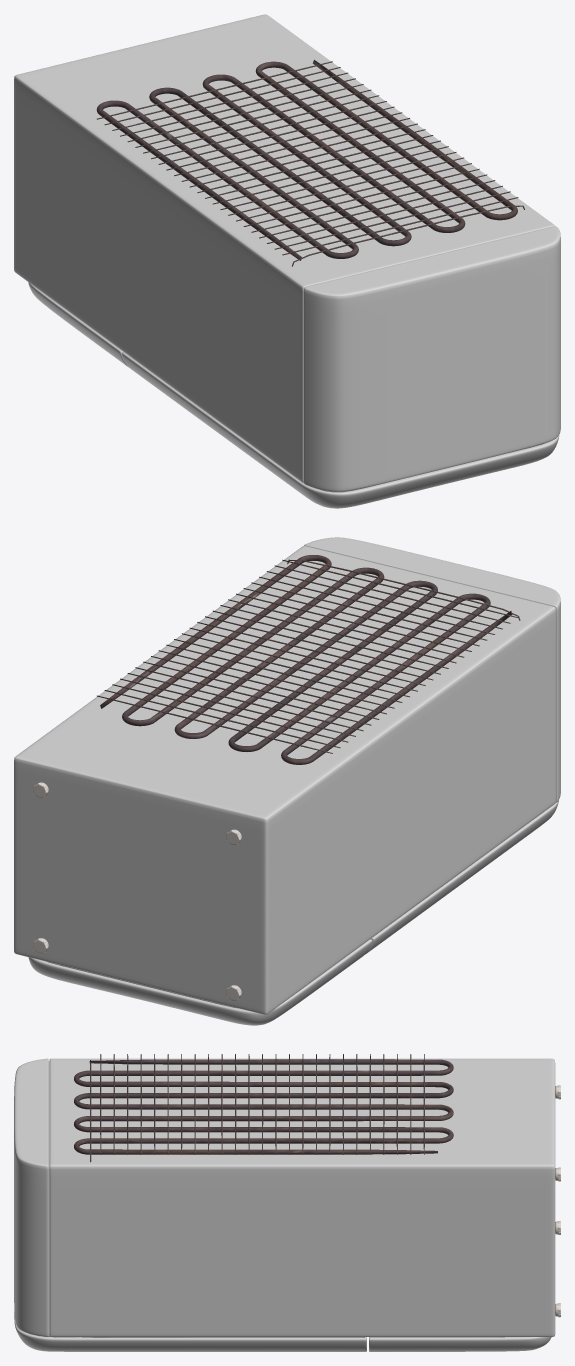
The model's file is 11647_Refrigerator_V1_L3.obj.
3 views of the same model, one above another, from view 1: azimuth 30°, elevation 25°; view 2: azimuth 150°, elevation 25°; view 3: azimuth 270°, elevation 25° (orthographic). The views are drawn at different scales.
Parts seen in each view (by area): view 1: Refrigerator_body, Refrigerator_back_grid, Refrigerator_door; view 2: Refrigerator_body, Refrigerator_back_grid, Refrigerator_door; view 3: Refrigerator_body, Refrigerator_back_grid, Refrigerator_door.
Boxes of the visible parts, x1,y1,x2,y2 form: Refrigerator_body: (14,14,560,491); Refrigerator_back_grid: (96,60,524,266); Refrigerator_door: (28,282,559,508); Refrigerator_body: (14,537,560,1014); Refrigerator_back_grid: (97,555,520,764); Refrigerator_door: (28,800,558,1025); Refrigerator_body: (14,1058,555,1336); Refrigerator_back_grid: (74,1054,453,1162); Refrigerator_door: (14,1312,551,1351).
Bounding box in the file's own units: 70 × 65.74 × 150.
Materials: 5 (1 with a texture image).
